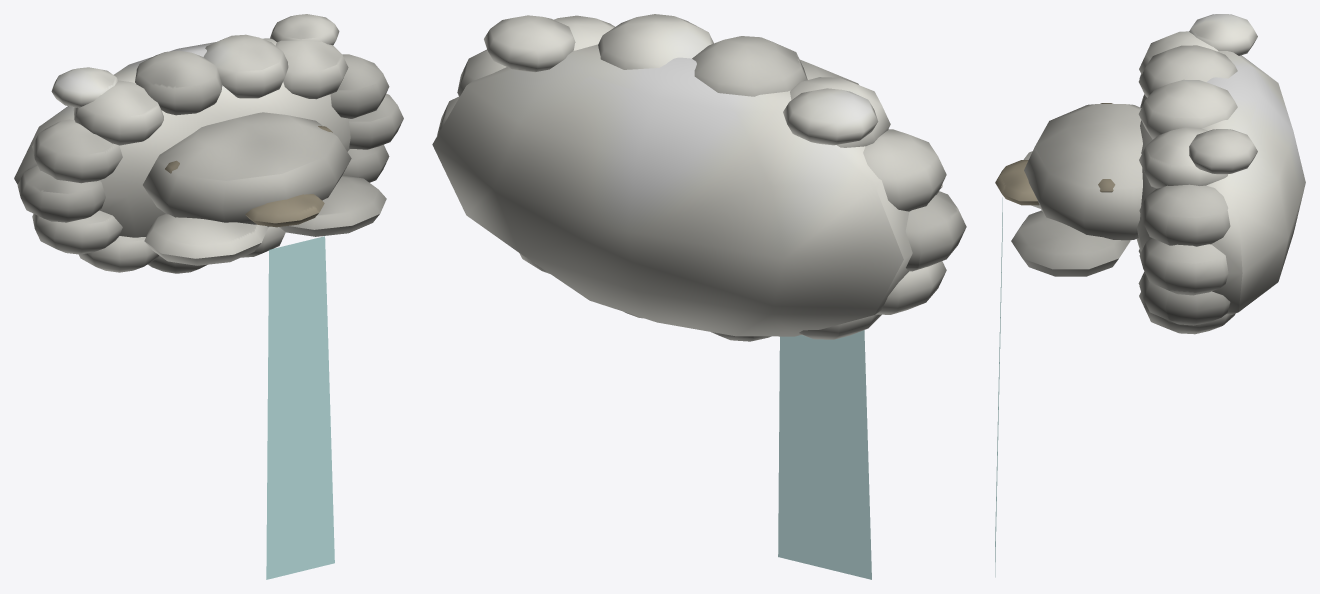
File: Furn_Bath_LionSpout.fbx
The picture shows the model from 3 angles, left to right: view 1: azimuth 30°, elevation 25°; view 2: azimuth 150°, elevation 25°; view 3: azimuth 270°, elevation 25°; orthographic projection. The views are drawn at different scales.
Visible parts, largest first — view 1: Furn_Bath_LionSpout, Water; view 2: Furn_Bath_LionSpout, Water; view 3: Furn_Bath_LionSpout, Water.
Boxes of the visible parts, x1,y1,x2,y2 form: Furn_Bath_LionSpout: (14,14,403,273); Water: (266,236,334,579); Furn_Bath_LionSpout: (432,14,966,341); Water: (778,330,871,579); Furn_Bath_LionSpout: (995,14,1305,334); Water: (995,197,1002,577).
Bounding box in the file's own units: 0.6 × 0.7 × 0.4.
Materials: 3 (2 with a texture image).
